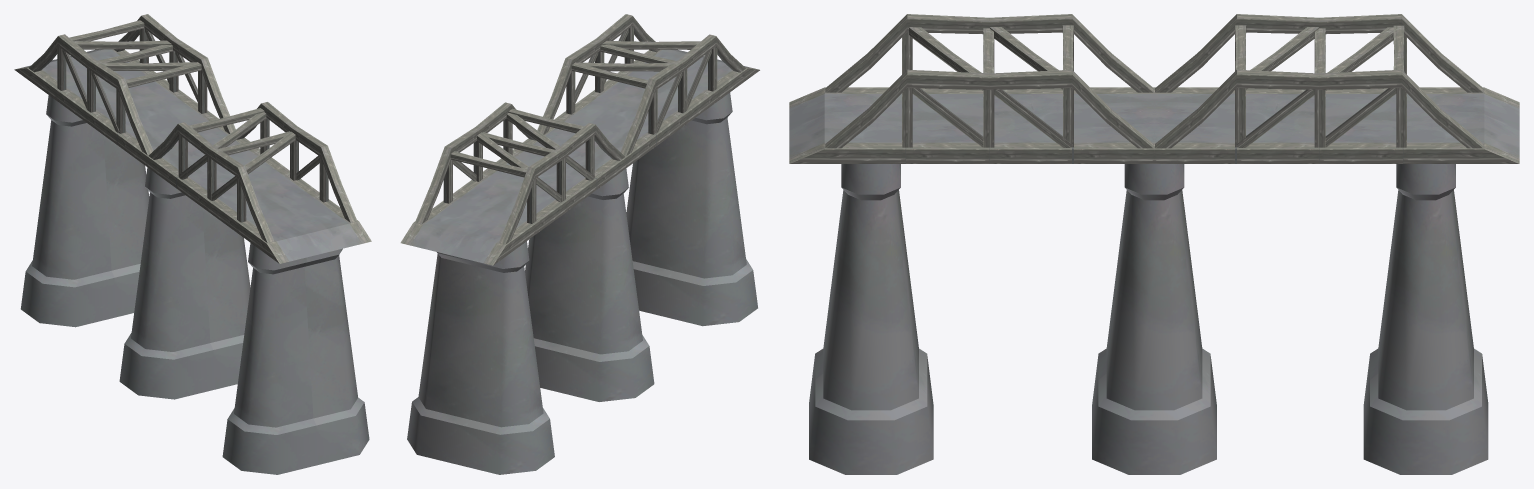
File: BridgeA.fbx
3 renders of one model, left to right at view 1: azimuth 30°, elevation 25°; view 2: azimuth 150°, elevation 25°; view 3: azimuth 270°, elevation 25°, orthographic. The views are drawn at different scales.
Parts seen in each view (by area): view 1: Cylinder.003; view 2: Cylinder.003; view 3: Cylinder.003.
Boxes of the visible parts, x1,y1,x2,y2 form: Cylinder.003: [14, 14, 371, 474]; Cylinder.003: [400, 14, 759, 474]; Cylinder.003: [789, 14, 1519, 474].
Bounding box in the file's own units: 2469 × 5192 × 8861.
